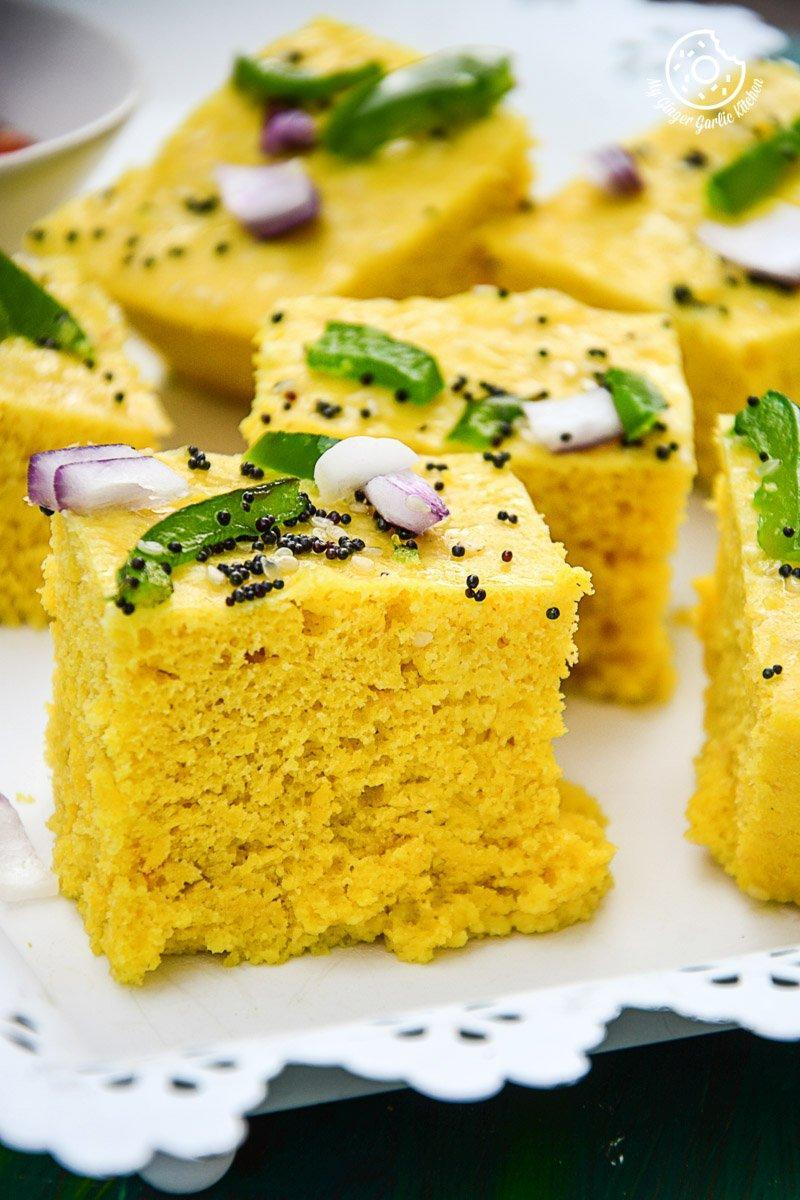dhokla: (0, 55, 800, 1016)
